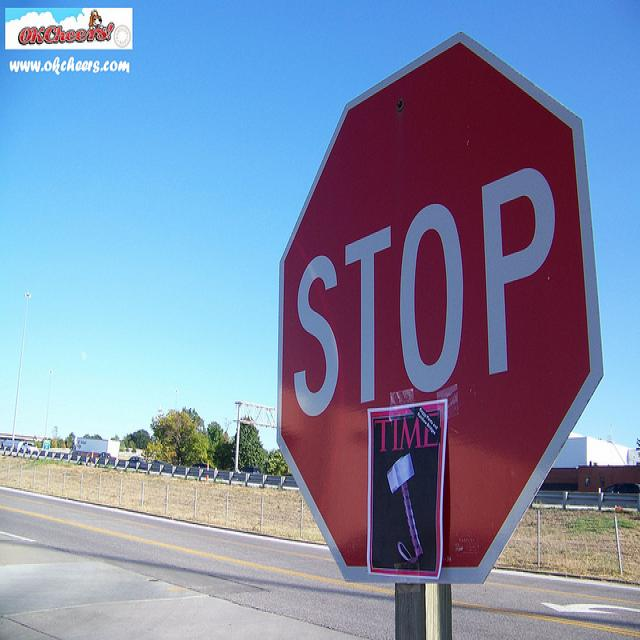Vehicle: (69, 437, 118, 459)
